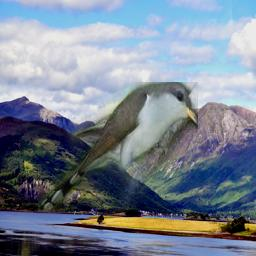Cuckoo: (38, 82, 198, 212)
